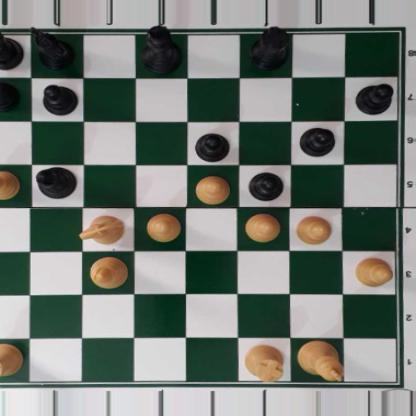black-bishop: (36, 165, 77, 199)
black-king: (140, 25, 182, 76)
black-knight: (30, 28, 74, 68)
black-pawn: (355, 82, 394, 116), (39, 84, 80, 116), (194, 130, 231, 161), (299, 125, 335, 156), (249, 170, 284, 201), (0, 78, 21, 112)
black-rook: (247, 26, 291, 69), (0, 23, 23, 69)
white-bishop: (89, 255, 127, 288)
white-king: (297, 339, 344, 383)
white-knight: (81, 213, 125, 246)
white-pawn: (353, 255, 393, 288), (294, 213, 332, 245), (192, 174, 231, 204), (244, 212, 280, 242), (145, 212, 181, 241), (0, 170, 21, 199)
white-rook: (244, 343, 286, 381), (0, 342, 23, 380)
